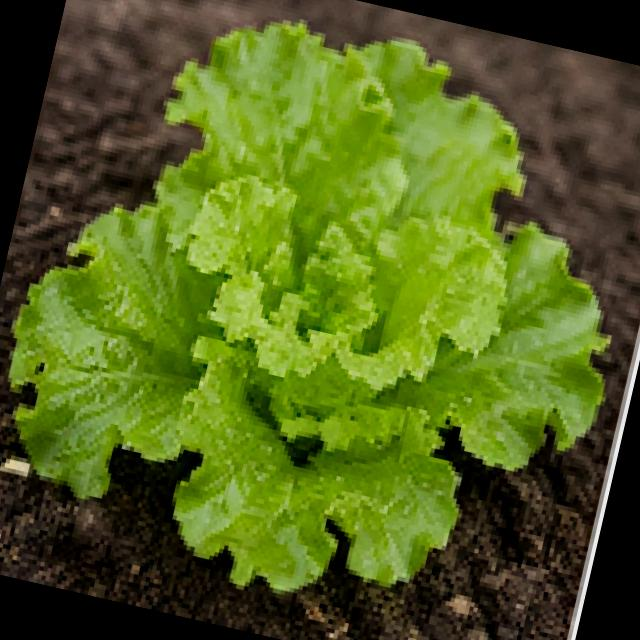inmadura: (9, 22, 603, 582)
